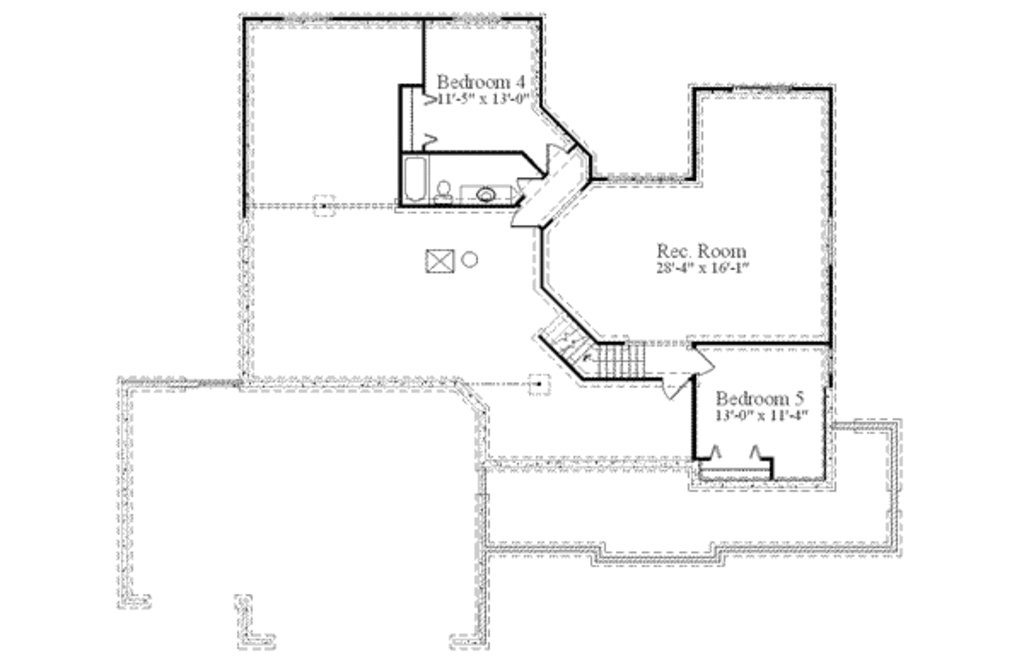door: (649, 372, 685, 406), (535, 138, 569, 171), (691, 345, 716, 375), (510, 172, 538, 194)
large_sink: (429, 176, 455, 210)
small_sink: (462, 179, 508, 209)
stairs: (522, 305, 647, 383)
tub: (401, 151, 431, 211)
